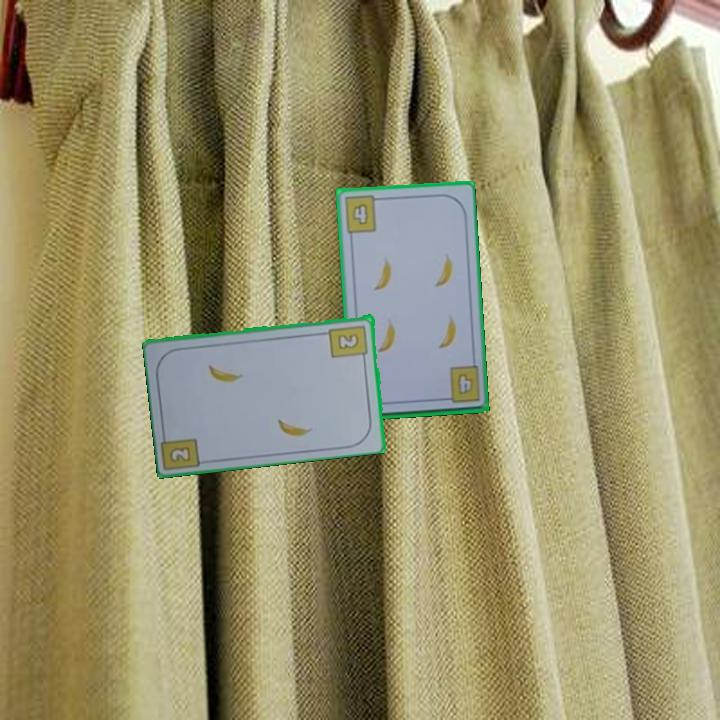2b: (326, 321, 371, 363), (166, 443, 194, 465)
4b: (340, 192, 384, 236), (439, 363, 483, 406)
